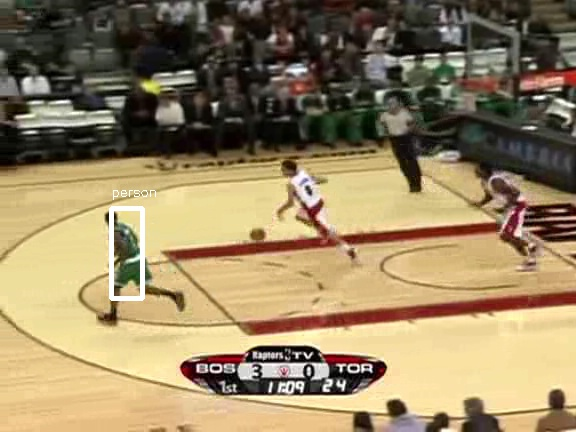person: (113, 212, 147, 293), (112, 212, 146, 293), (114, 212, 148, 293), (113, 211, 147, 292), (113, 213, 147, 294)
target_negative: (77, 31, 360, 345), (338, 87, 365, 176), (427, 422, 567, 431), (568, 129, 569, 406), (486, 185, 567, 187), (453, 390, 467, 397)
